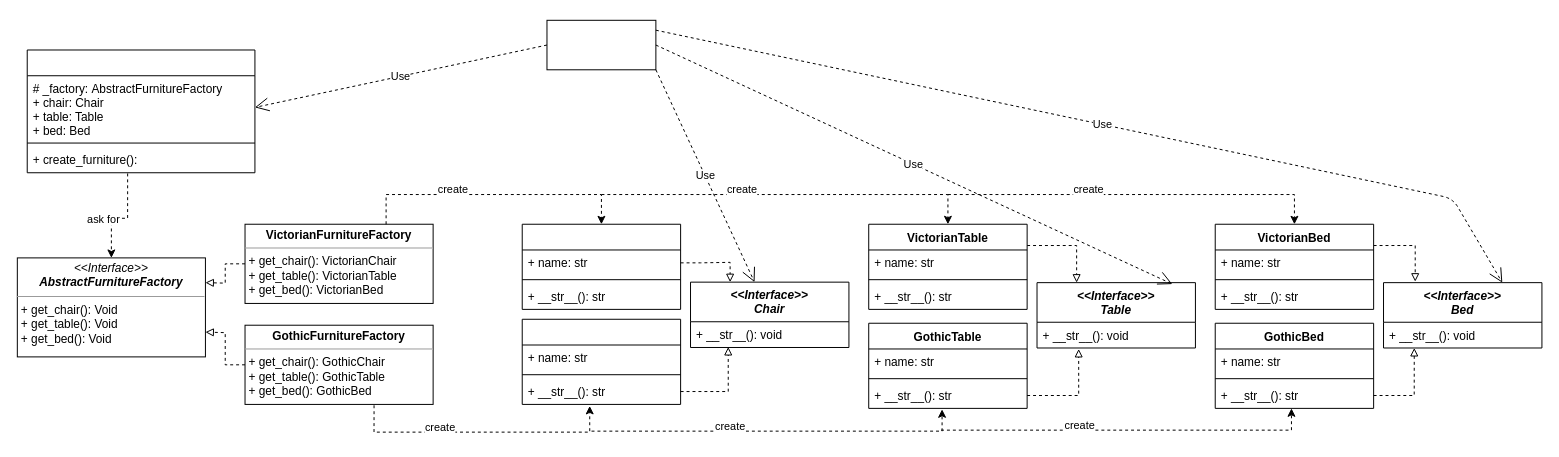
Image size: 1559x457. Some labels were removed from this diagram. The box of each missing label's shape, as (x1, y1, x2, y2) in pixels:
Application: (26, 49, 255, 173)
Client: (546, 19, 656, 70)
GothicChair: (521, 318, 681, 404)
VictorianChair: (521, 223, 681, 309)
